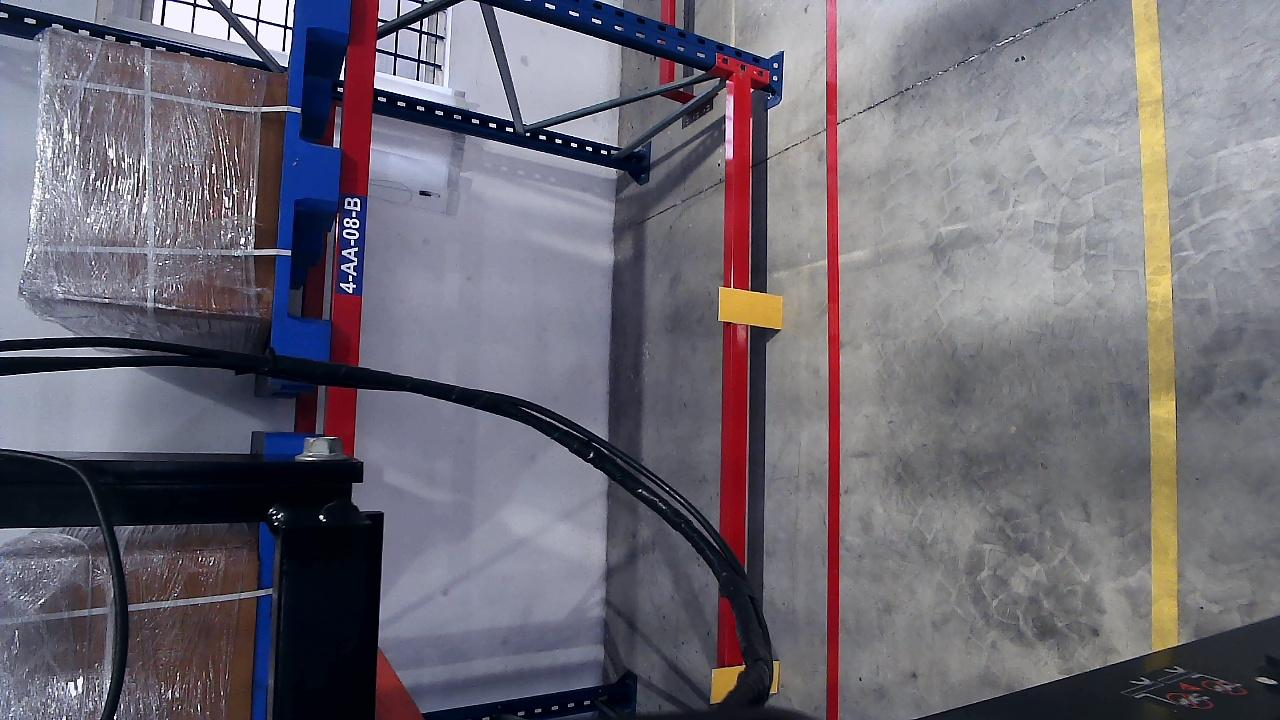h_rack: (326, 1, 382, 462), (717, 77, 757, 713)
orange_strip: (718, 286, 784, 329), (710, 665, 745, 702)
small_pallet: (272, 0, 356, 363)
yellow_line: (1134, 1, 1181, 651)
